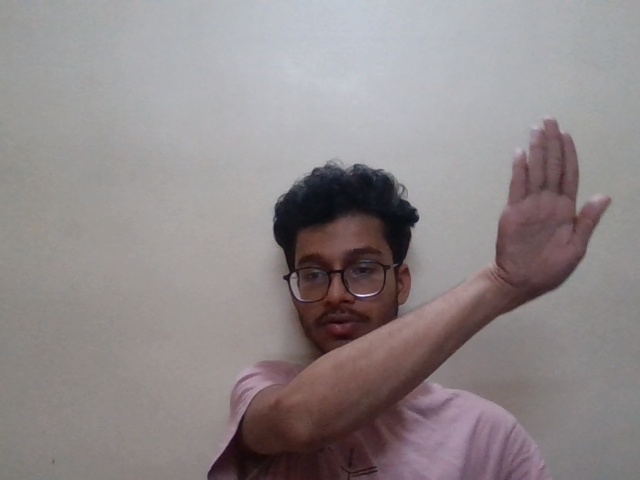hello: (493, 117, 608, 322)
